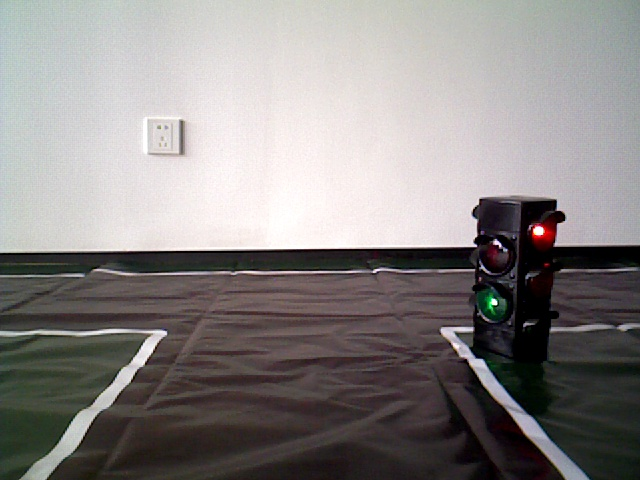red: (478, 201, 548, 366)
